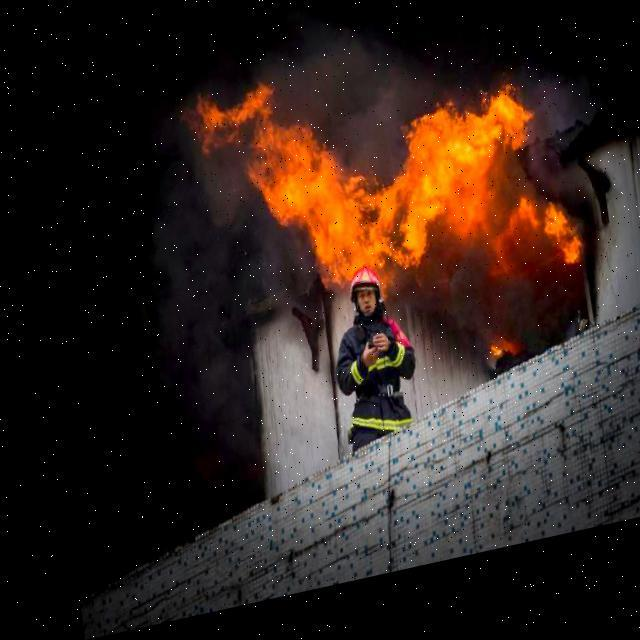Fire: (188, 34, 582, 418)
